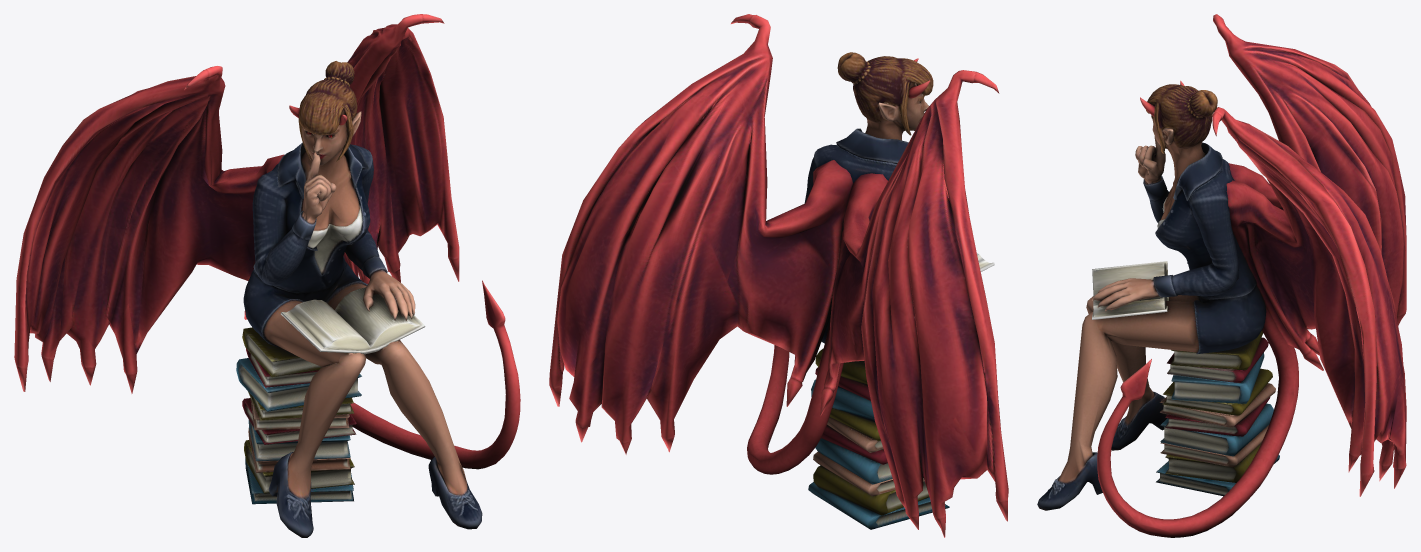
File: MZ4250 - Succubus.glb
The picture shows the model from 3 angles, left to right: view 1: azimuth 30°, elevation 25°; view 2: azimuth 150°, elevation 25°; view 3: azimuth 270°, elevation 25°; orthographic projection. The views are drawn at different scales.
Parts seen in each view (by area): view 1: wing_left_low.001, body_low.001, wing_right_low.001, book_001_low.001, tail_low.001, book_009_low.001, book_010_low.001, book_004_low.001, book_003_low.001, book_002_low.001, book_006_low.001, book_007_low.001 (+3 smaller); view 2: wing_right_low.001, wing_left_low.001, body_low.001, tail_low.001, book_003_low.001, book_002_low.001, book_004_low.001, book_005_low.001, book_009_low.001, book_006_low.001, book_007_low.001, book_008_low.001 (+1 smaller); view 3: wing_right_low.001, body_low.001, wing_left_low.001, tail_low.001, book_001_low.001, book_009_low.001, book_004_low.001, book_010_low.001, book_003_low.001, book_007_low.001, book_008_low.001, book_011_low.001 (+3 smaller).
Boxes of the visible parts, box(x1,y1,x2,y2) form: wing_left_low.001: box(14, 66, 284, 393); body_low.001: box(243, 61, 482, 537); wing_right_low.001: box(343, 14, 459, 284); book_001_low.001: box(281, 287, 425, 354); tail_low.001: box(350, 280, 520, 469); book_009_low.001: box(236, 358, 361, 411); book_010_low.001: box(242, 327, 321, 377); book_004_low.001: box(248, 419, 350, 461); book_003_low.001: box(244, 440, 354, 493); book_002_low.001: box(245, 458, 353, 504); book_006_low.001: box(242, 398, 356, 444); book_007_low.001: box(250, 397, 349, 430); wing_right_low.001: box(549, 14, 853, 454); wing_left_low.001: box(820, 70, 1008, 537); body_low.001: box(804, 52, 933, 343); tail_low.001: box(747, 319, 843, 474); book_003_low.001: box(813, 465, 929, 515); book_002_low.001: box(808, 482, 949, 529); book_004_low.001: box(815, 438, 892, 484); book_005_low.001: box(813, 451, 924, 496); book_009_low.001: box(811, 379, 874, 421); book_006_low.001: box(821, 425, 887, 464); book_007_low.001: box(827, 417, 883, 452); book_008_low.001: box(829, 408, 880, 440); wing_right_low.001: box(1212, 107, 1406, 496); body_low.001: box(1037, 84, 1266, 510); wing_left_low.001: box(1213, 14, 1406, 355); tail_low.001: box(1097, 306, 1298, 537); book_001_low.001: box(1092, 261, 1168, 319); book_009_low.001: box(1171, 352, 1264, 403); book_004_low.001: box(1160, 403, 1273, 456); book_010_low.001: box(1171, 331, 1262, 369); book_003_low.001: box(1165, 443, 1261, 482); book_007_low.001: box(1160, 383, 1275, 427); book_008_low.001: box(1162, 368, 1272, 415); book_011_low.001: box(1167, 337, 1268, 382).
Bounding box in the file's own units: 5.66 × 5.4 × 4.32.
Materials: 1 (1 with a texture image).
